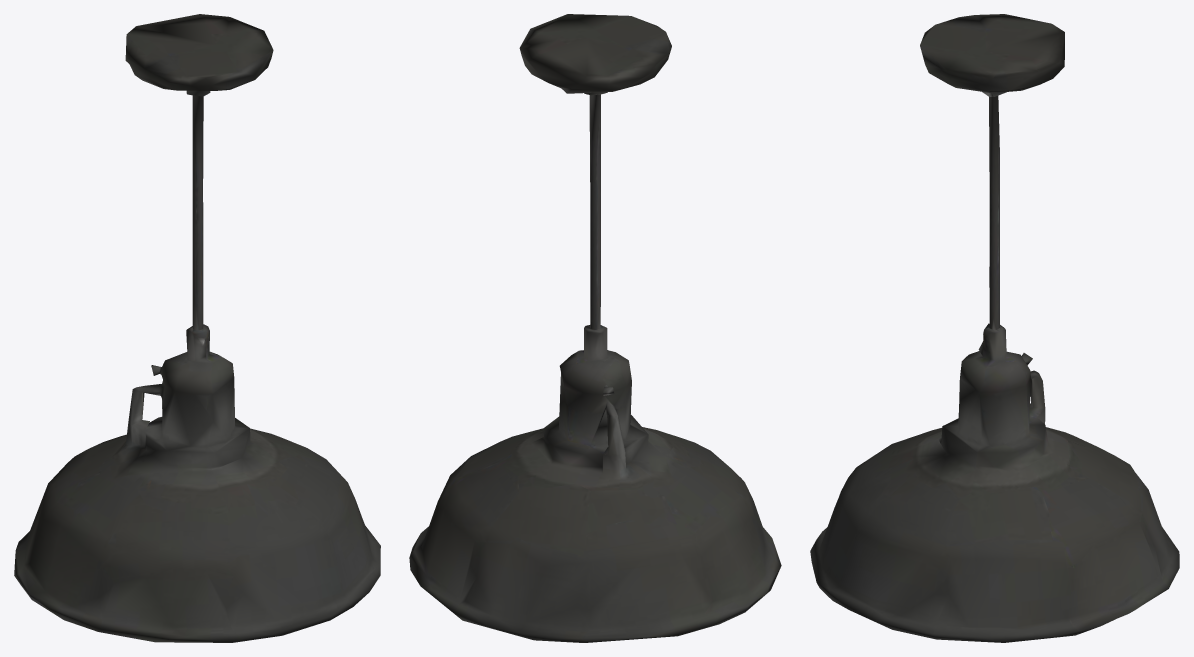
File: 工业风吊灯.glb
3 views of the same model, side by side, from view 1: azimuth 30°, elevation 25°; view 2: azimuth 150°, elevation 25°; view 3: azimuth 270°, elevation 25° (orthographic).
Parts seen in each view (by area): view 1: tripo_node_3a983aee-4bda-4e78-8388-1591fd5a67c0; view 2: tripo_node_3a983aee-4bda-4e78-8388-1591fd5a67c0; view 3: tripo_node_3a983aee-4bda-4e78-8388-1591fd5a67c0.
Boxes of the visible parts, x1,y1,x2,y2 form: tripo_node_3a983aee-4bda-4e78-8388-1591fd5a67c0: [14, 14, 380, 642]; tripo_node_3a983aee-4bda-4e78-8388-1591fd5a67c0: [409, 14, 781, 642]; tripo_node_3a983aee-4bda-4e78-8388-1591fd5a67c0: [810, 14, 1179, 642].
Size of the model in its own units: 0.584 by 1 by 0.582.
Materials: 1 (1 with a texture image).
